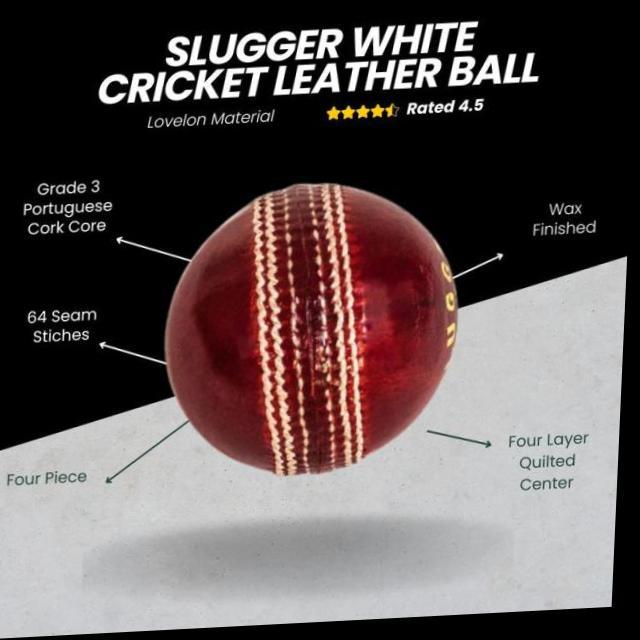cricket ball: (168, 187, 462, 481)
